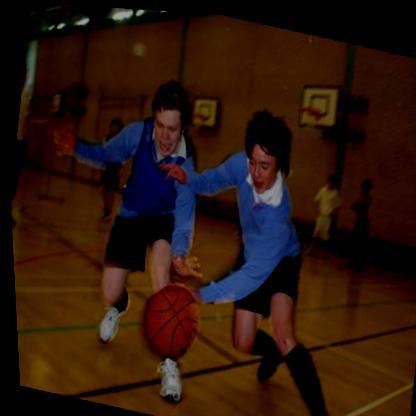basketball: (135, 276, 205, 359)
